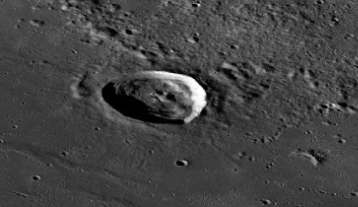crater: (63, 40, 272, 147), (161, 142, 213, 179)
